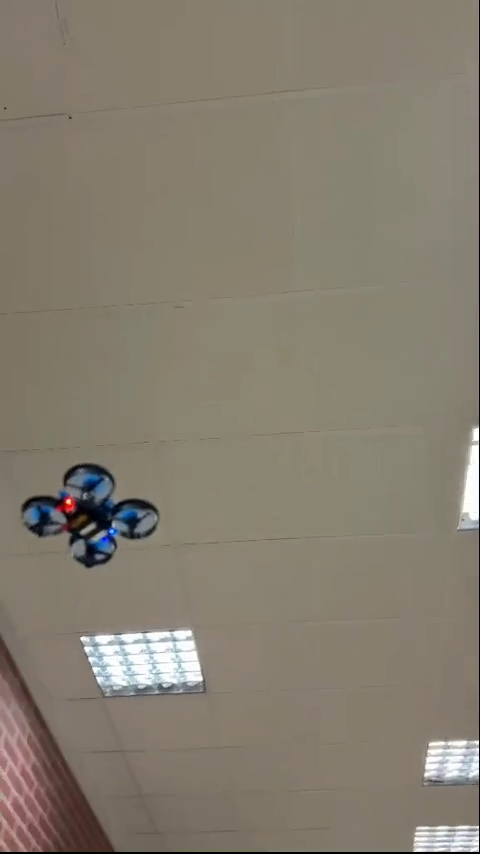drone: (20, 464, 165, 565)
